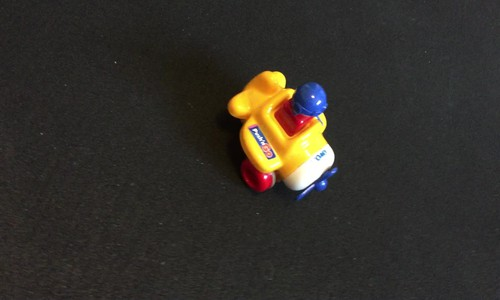toy: (219, 56, 352, 202)
